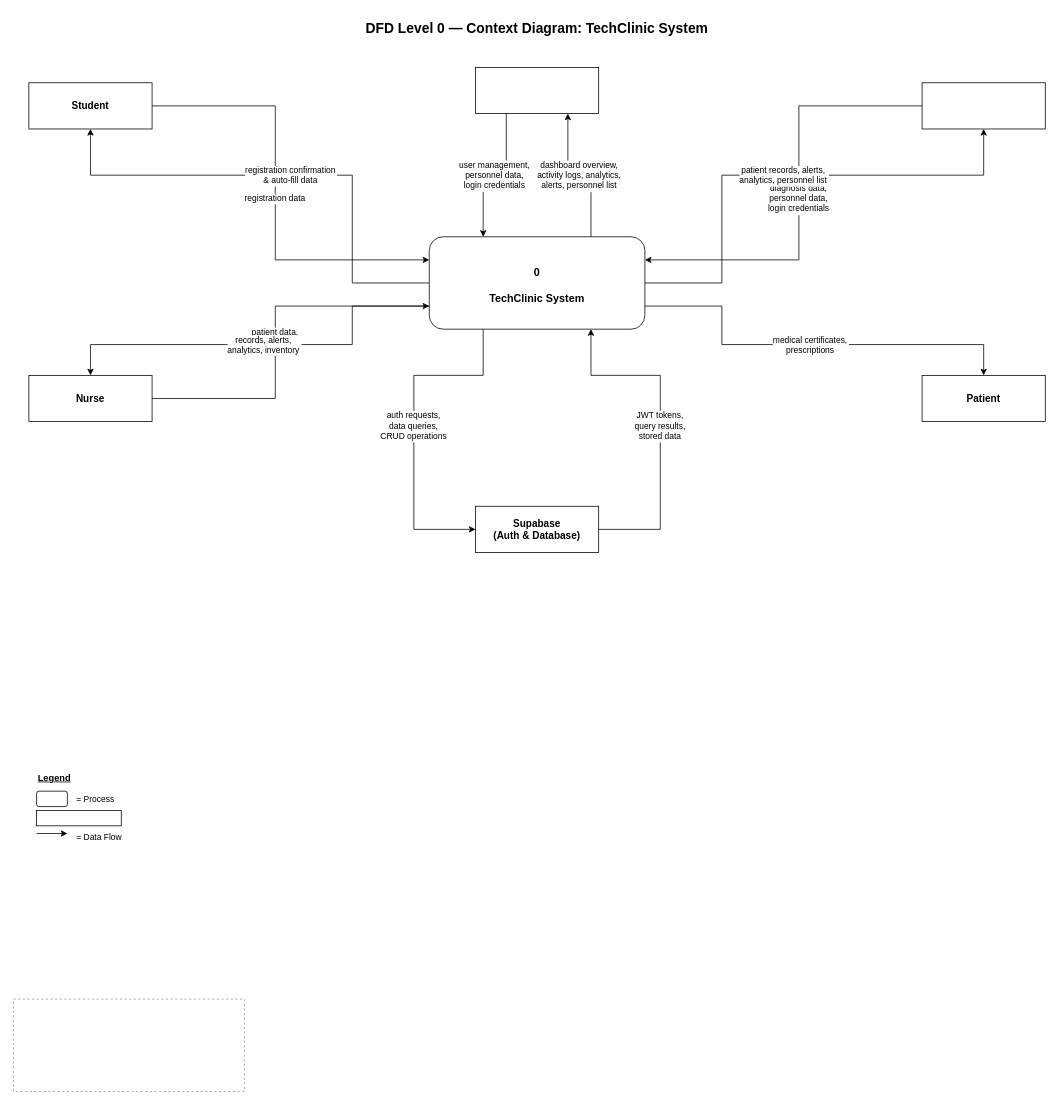
This 1059x1105 diagram has some shape labels left out. The shapes that lost their labels are listed below. From the top down, each one's centre as x and y in pixels, then its label:
At point (537, 90): "Admin".
At point (983, 105): "Doctor".
At point (78, 818): "= External Entity".
